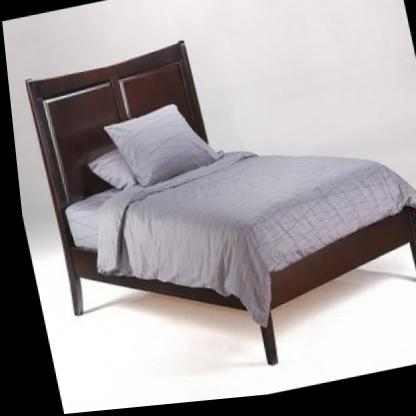Bed: (17, 4, 416, 404)
